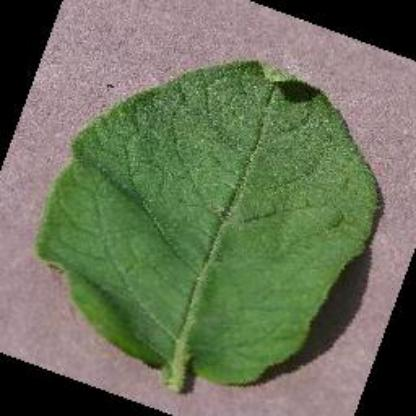Healthy-plant: (28, 52, 390, 400)
